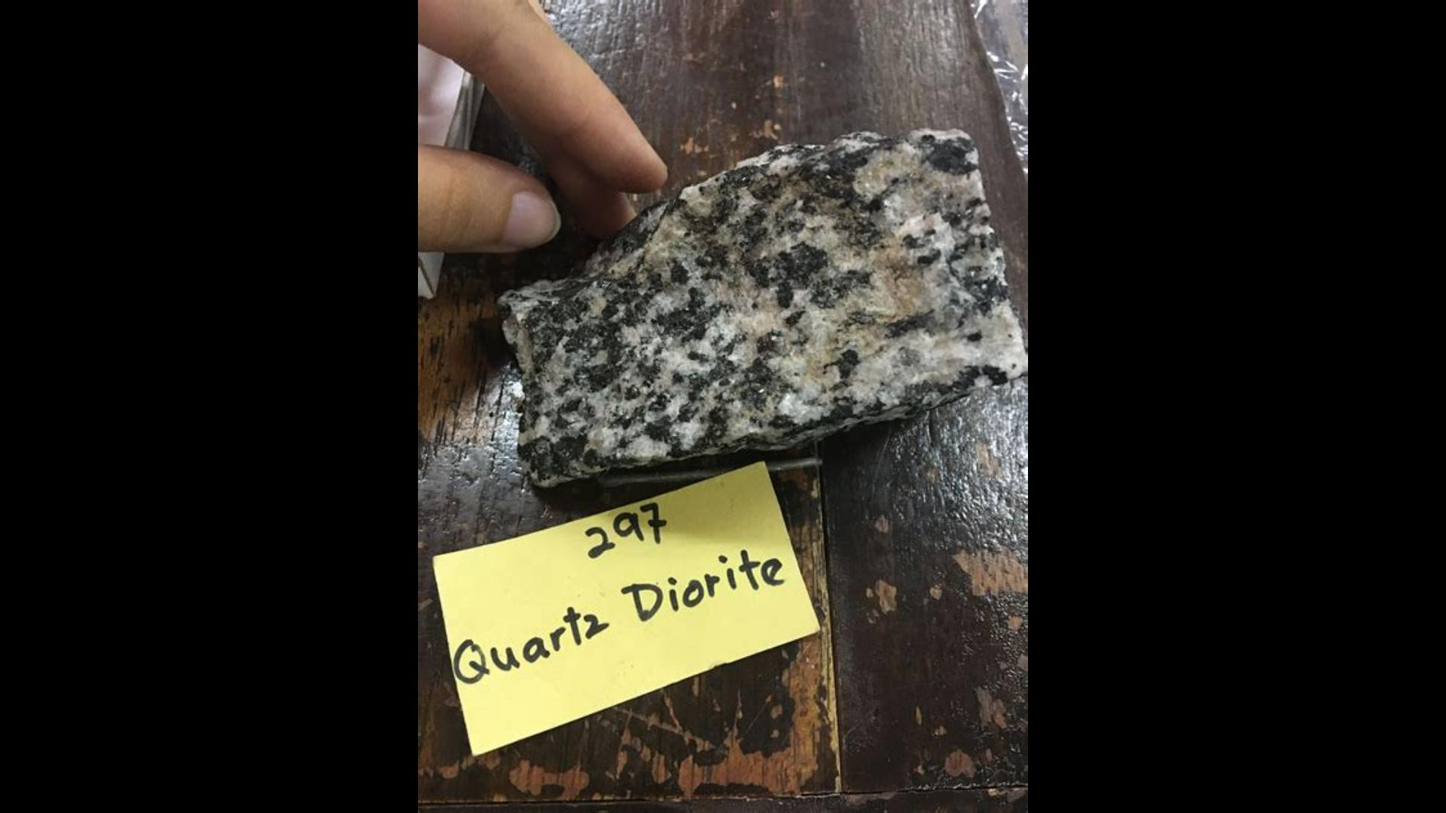rock: (503, 130, 1027, 480)
